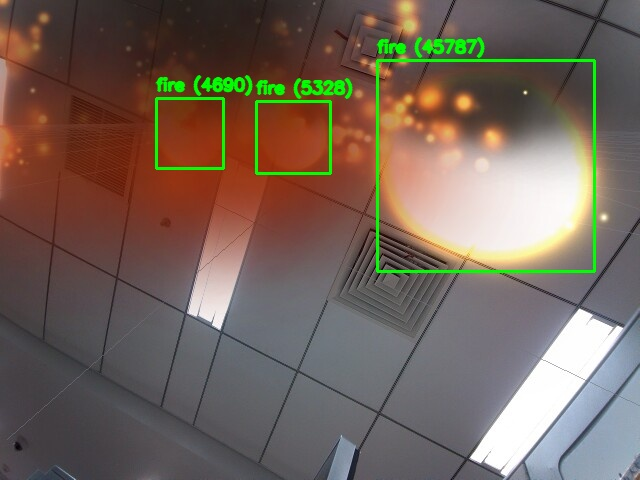fire: (377, 60, 594, 271), (256, 101, 330, 173), (156, 98, 223, 168)
